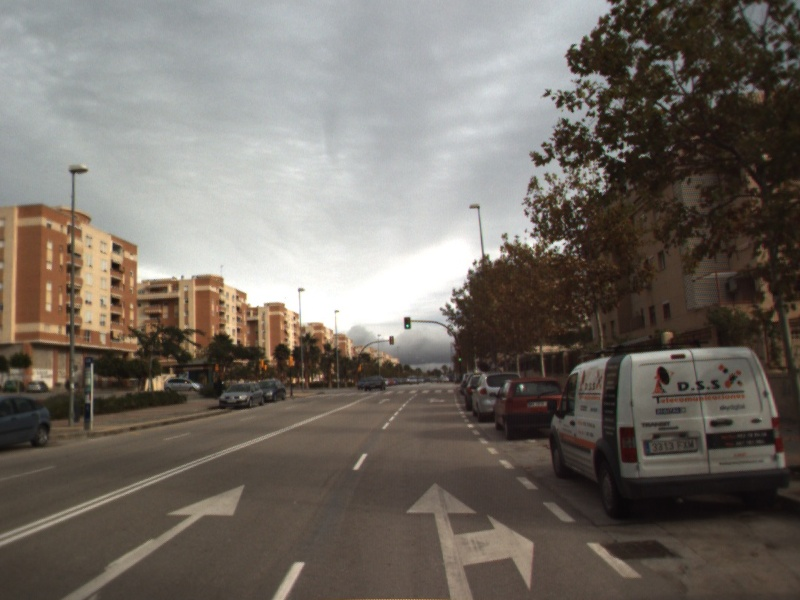STRAIGHT: (56, 482, 247, 600)
STRAIGHT_RIGHT: (404, 480, 536, 600)
